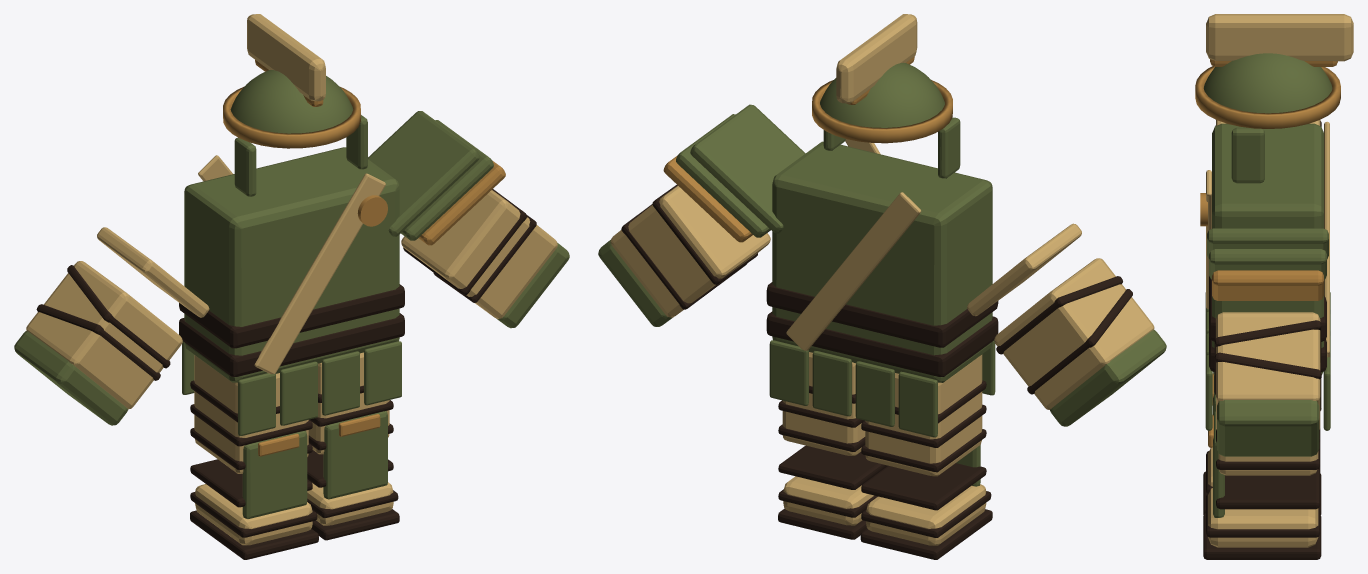
The model's file is SkirmisherArmorSet.glb.
The picture shows the model from 3 angles, left to right: view 1: azimuth 30°, elevation 25°; view 2: azimuth 150°, elevation 25°; view 3: azimuth 270°, elevation 25°; orthographic projection. The views are drawn at different scales.
Parts seen in each view (by area): view 1: SkirmisherChestplate, Right (×3), Left (×3), SkirmisherHelmet; view 2: SkirmisherChestplate, Right (×3), Left (×3), SkirmisherHelmet; view 3: Left (×3), SkirmisherHelmet, SkirmisherChestplate, Right.
Part boxes in pixels (x1,y1,x2,y2): SkirmisherChestplate: [179, 147, 404, 435]; Right (×3): [14, 227, 318, 559]; Left (×3): [307, 111, 569, 540]; SkirmisherHelmet: [223, 14, 367, 196]; SkirmisherChestplate: [766, 139, 998, 437]; Right (×3): [860, 223, 1166, 559]; Left (×3): [598, 104, 887, 539]; SkirmisherHelmet: [812, 14, 960, 178]; Left (×3): [1203, 228, 1328, 559]; SkirmisherHelmet: [1195, 14, 1353, 183]; SkirmisherChestplate: [1200, 121, 1330, 430]; Right: [1203, 373, 1321, 514].
Bounding box in the file's own units: 6.34 × 5.67 × 1.61.
